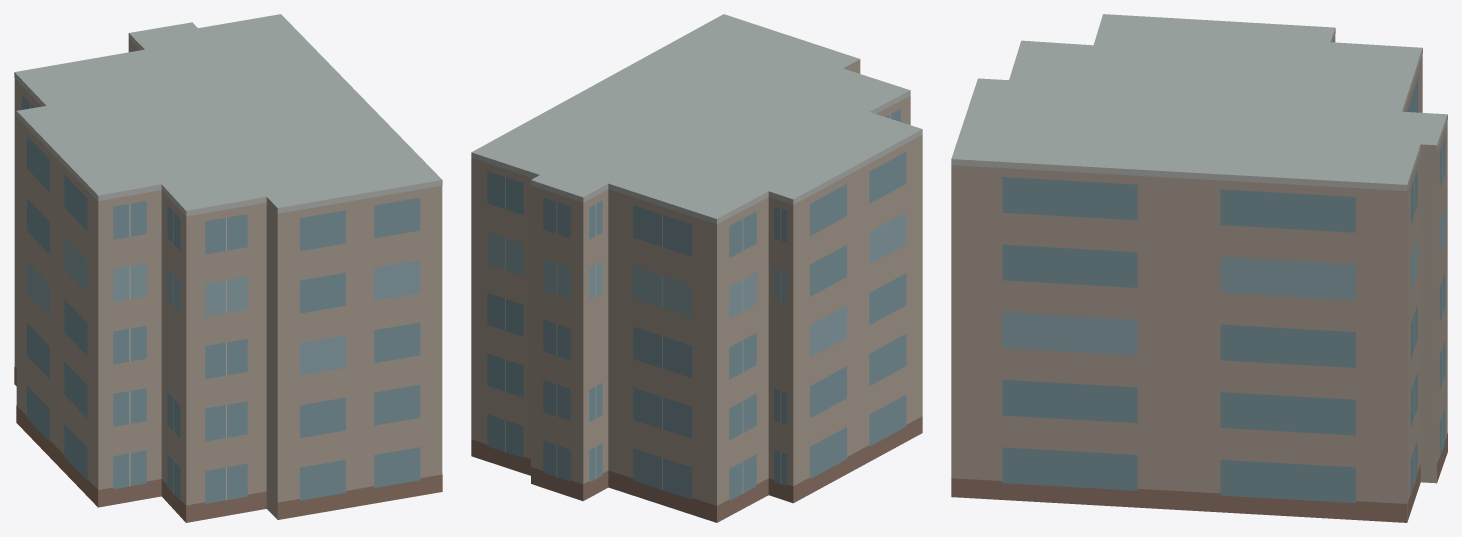
Rendered from survey-upis-32755183.glb.
3 views of the same model, side by side, from view 1: azimuth 30°, elevation 25°; view 2: azimuth 150°, elevation 25°; view 3: azimuth 270°, elevation 25° (orthographic). The views are drawn at different scales.
Visible parts, largest first — view 1: survey-upis-32755183.tmp; view 2: survey-upis-32755183.tmp; view 3: survey-upis-32755183.tmp.
Part boxes in pixels (box(x1,y1,x2,y2)): survey-upis-32755183.tmp: box(14, 14, 442, 522); survey-upis-32755183.tmp: box(471, 14, 922, 522); survey-upis-32755183.tmp: box(951, 14, 1447, 522).
Size of the model in its own units: 14.65 by 13.5 by 17.98.
